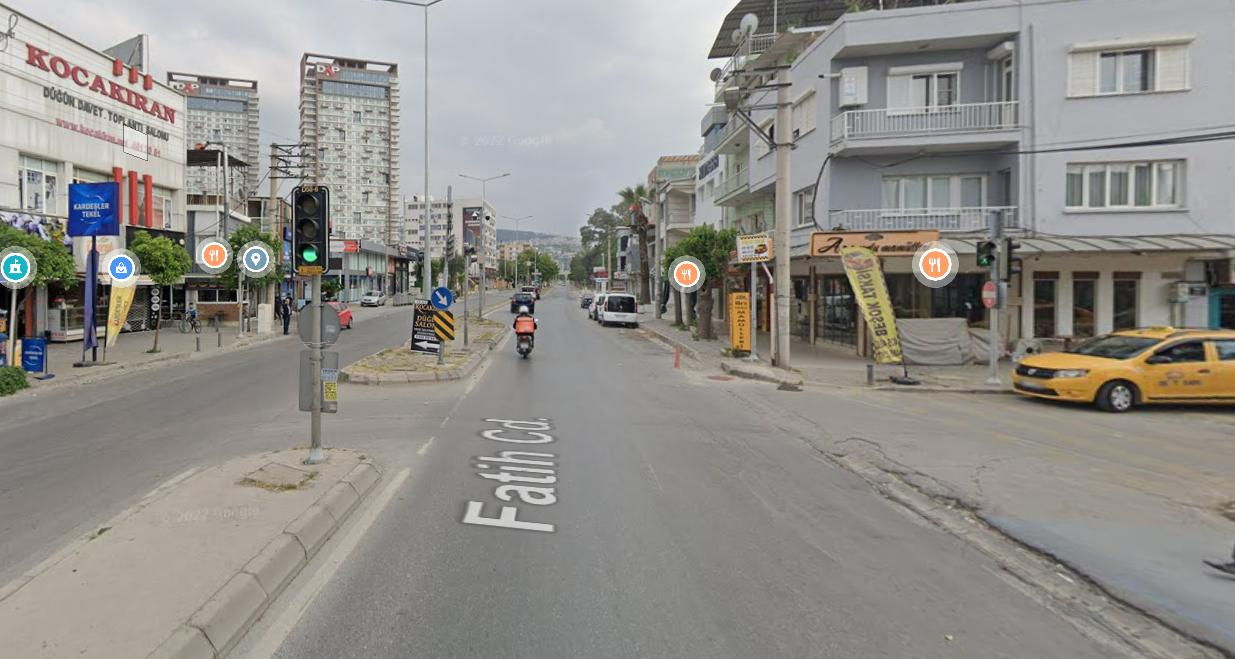greenlight: (286, 181, 334, 279)
